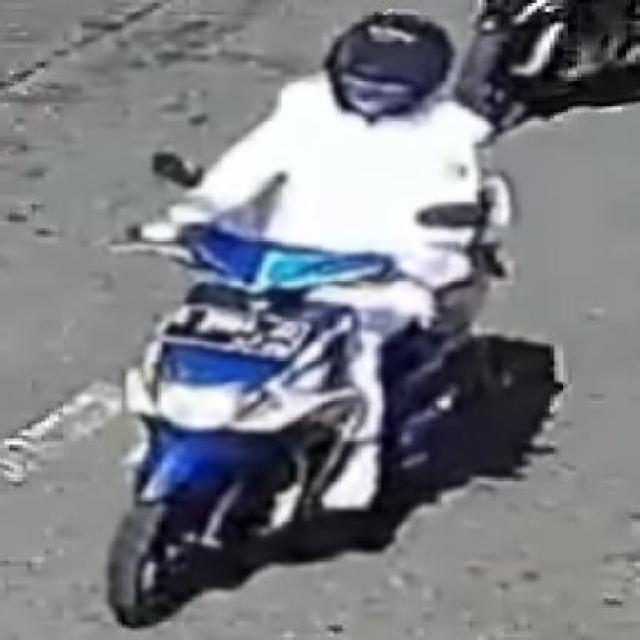helmet: (316, 0, 466, 140)
motorcycle: (87, 0, 510, 635)
